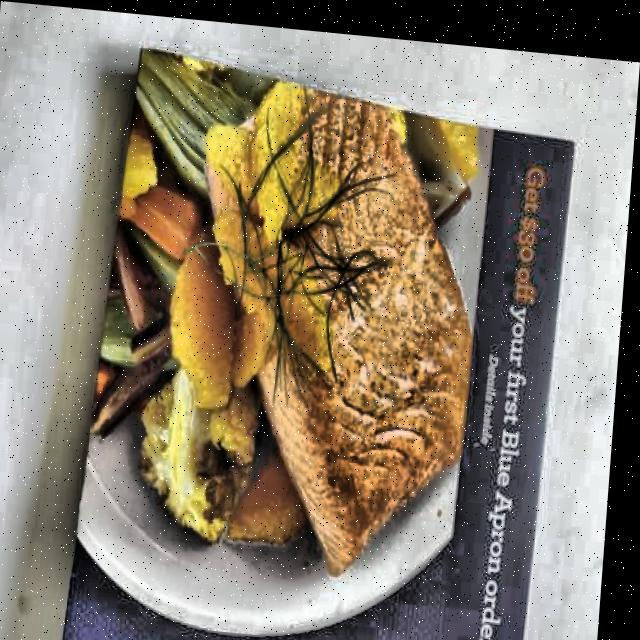paper: (60, 42, 579, 640)
